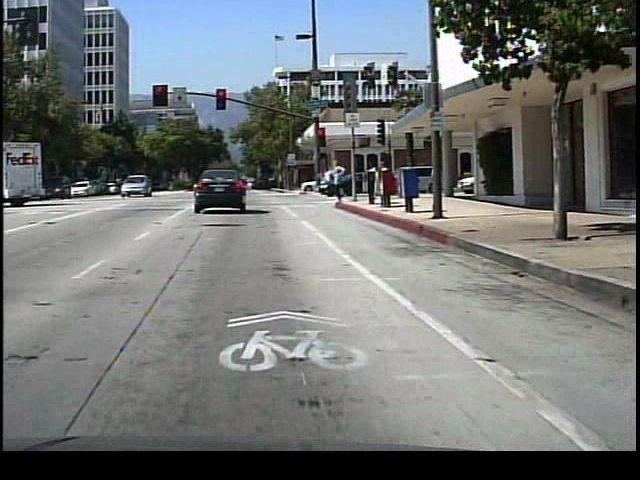person: (327, 152, 350, 207), (376, 156, 395, 199), (362, 158, 380, 197)
